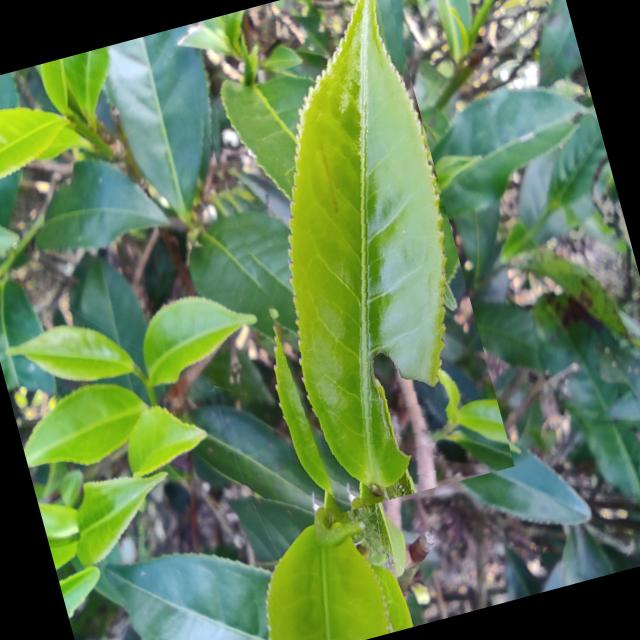Category B(2-4 days): (170, 0, 514, 522)
